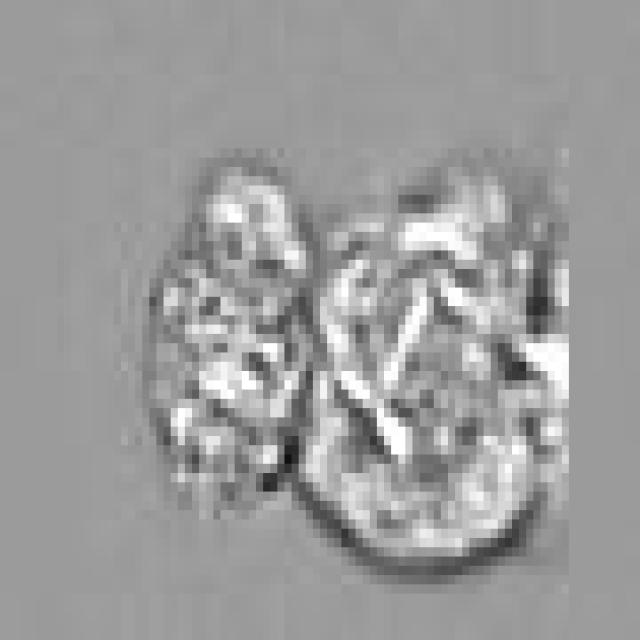Cancer Cell: (306, 213, 569, 575)
WBC: (149, 167, 313, 501)
